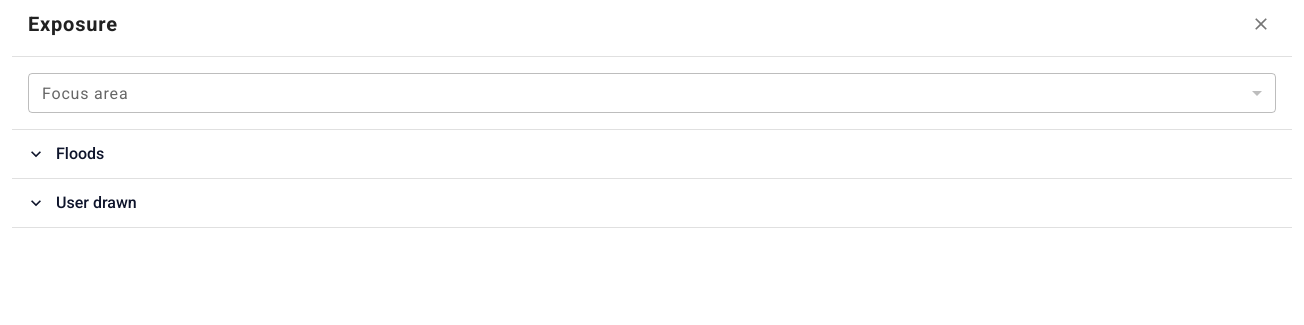
Test: ExposureView › Group Expansion › collapses group when clicked again
Expected: the text "Floods" is shown, [56,144,104,163]
Step 1. Click the button "Floods" → [80, 154], box [12,130,1292,178]
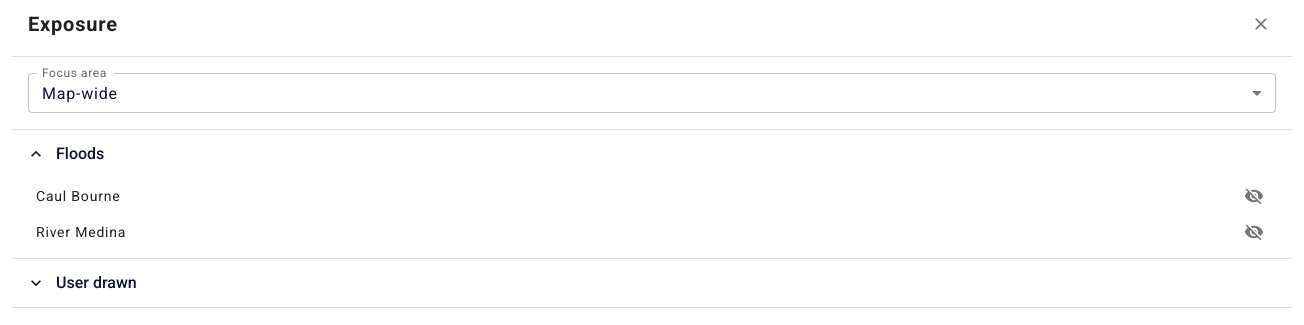
Step 2. Click the button "Floods" → [80, 154], box [12,130,1292,178]
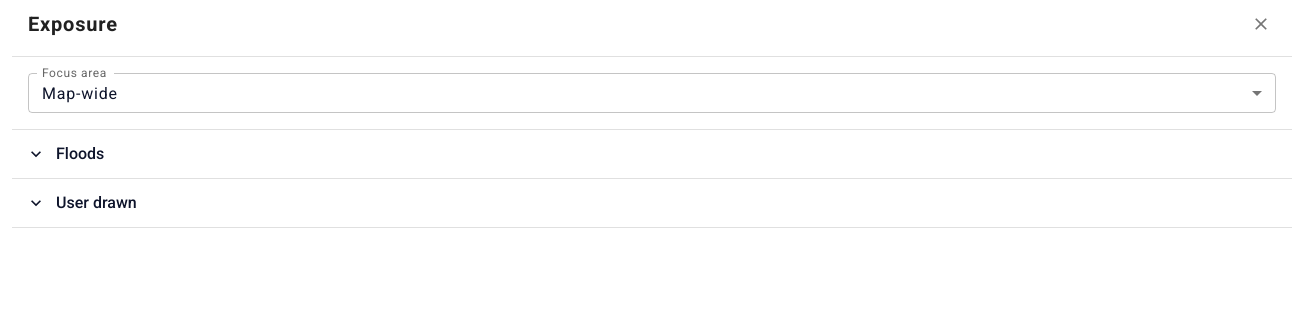
Expected: the button "Floods" is collapsed, [12,130,1292,178]
